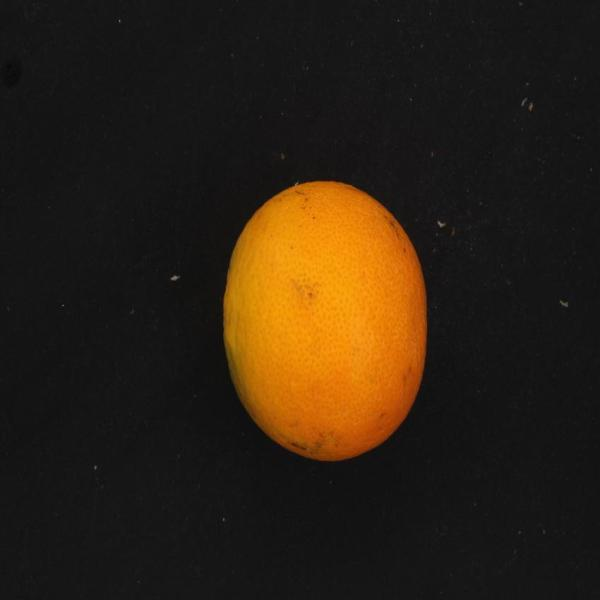Sana: (209, 169, 440, 466)
